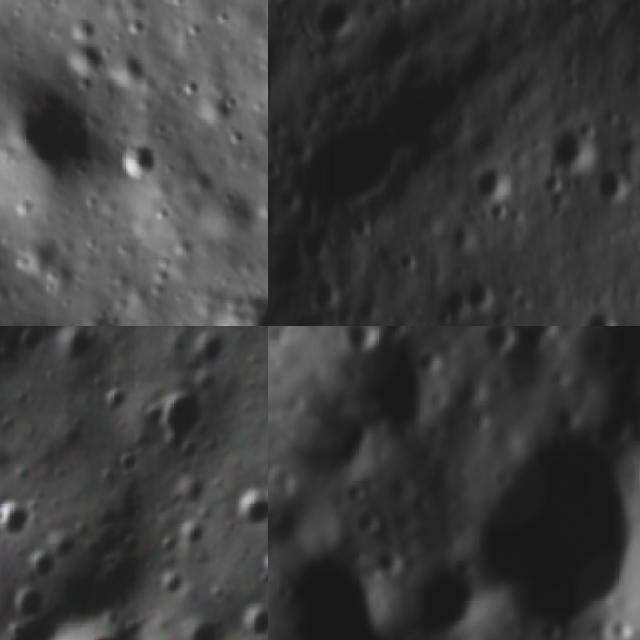crater: (449, 422, 640, 640), (274, 57, 454, 229), (0, 73, 102, 186), (294, 396, 396, 499), (33, 602, 158, 640), (149, 383, 211, 450), (302, 0, 365, 52), (464, 261, 511, 322), (472, 162, 524, 216), (470, 326, 530, 371), (118, 132, 164, 186), (328, 326, 388, 367), (228, 482, 268, 535), (5, 581, 54, 624), (0, 492, 38, 545), (347, 504, 392, 548), (52, 326, 99, 367), (308, 269, 348, 316), (0, 611, 64, 640), (190, 330, 234, 372), (556, 120, 590, 174), (594, 171, 638, 209), (66, 12, 102, 52), (98, 381, 134, 421), (572, 298, 623, 326), (26, 548, 62, 584), (173, 515, 208, 550), (176, 615, 224, 640), (150, 568, 185, 602), (170, 474, 204, 508), (240, 599, 268, 640), (250, 538, 268, 592), (223, 124, 252, 153), (114, 449, 140, 478), (128, 18, 154, 44), (536, 0, 596, 11), (182, 20, 205, 42)
